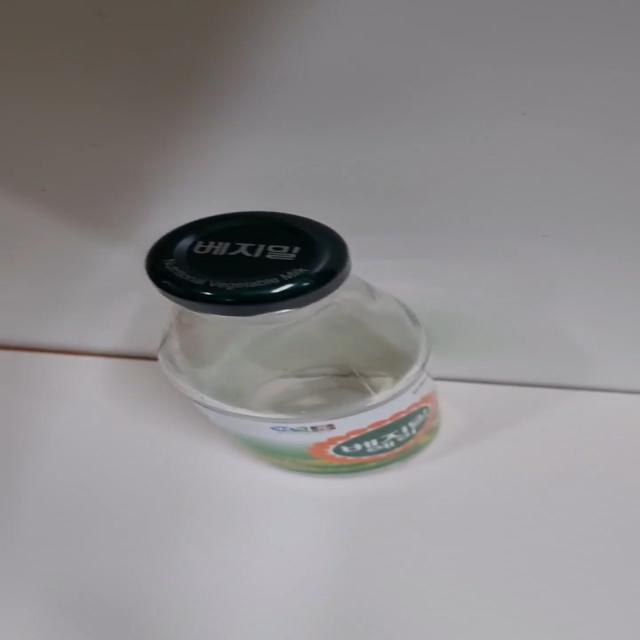Glass: (132, 206, 450, 477)
